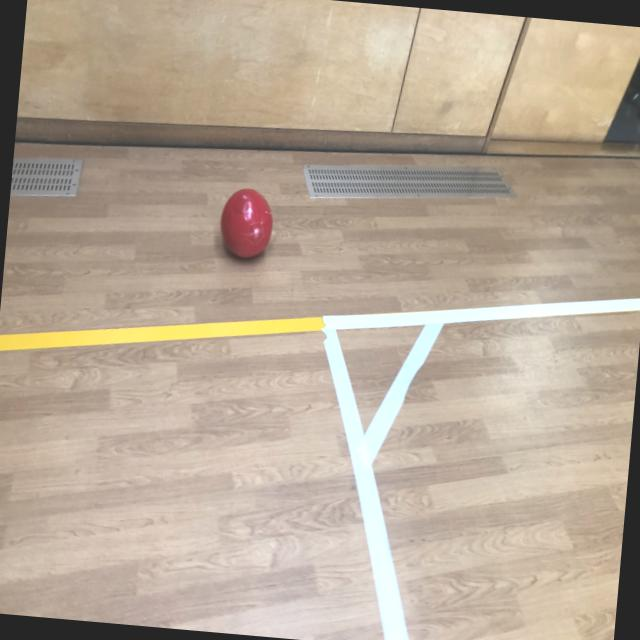red_ball: (218, 185, 274, 260)
